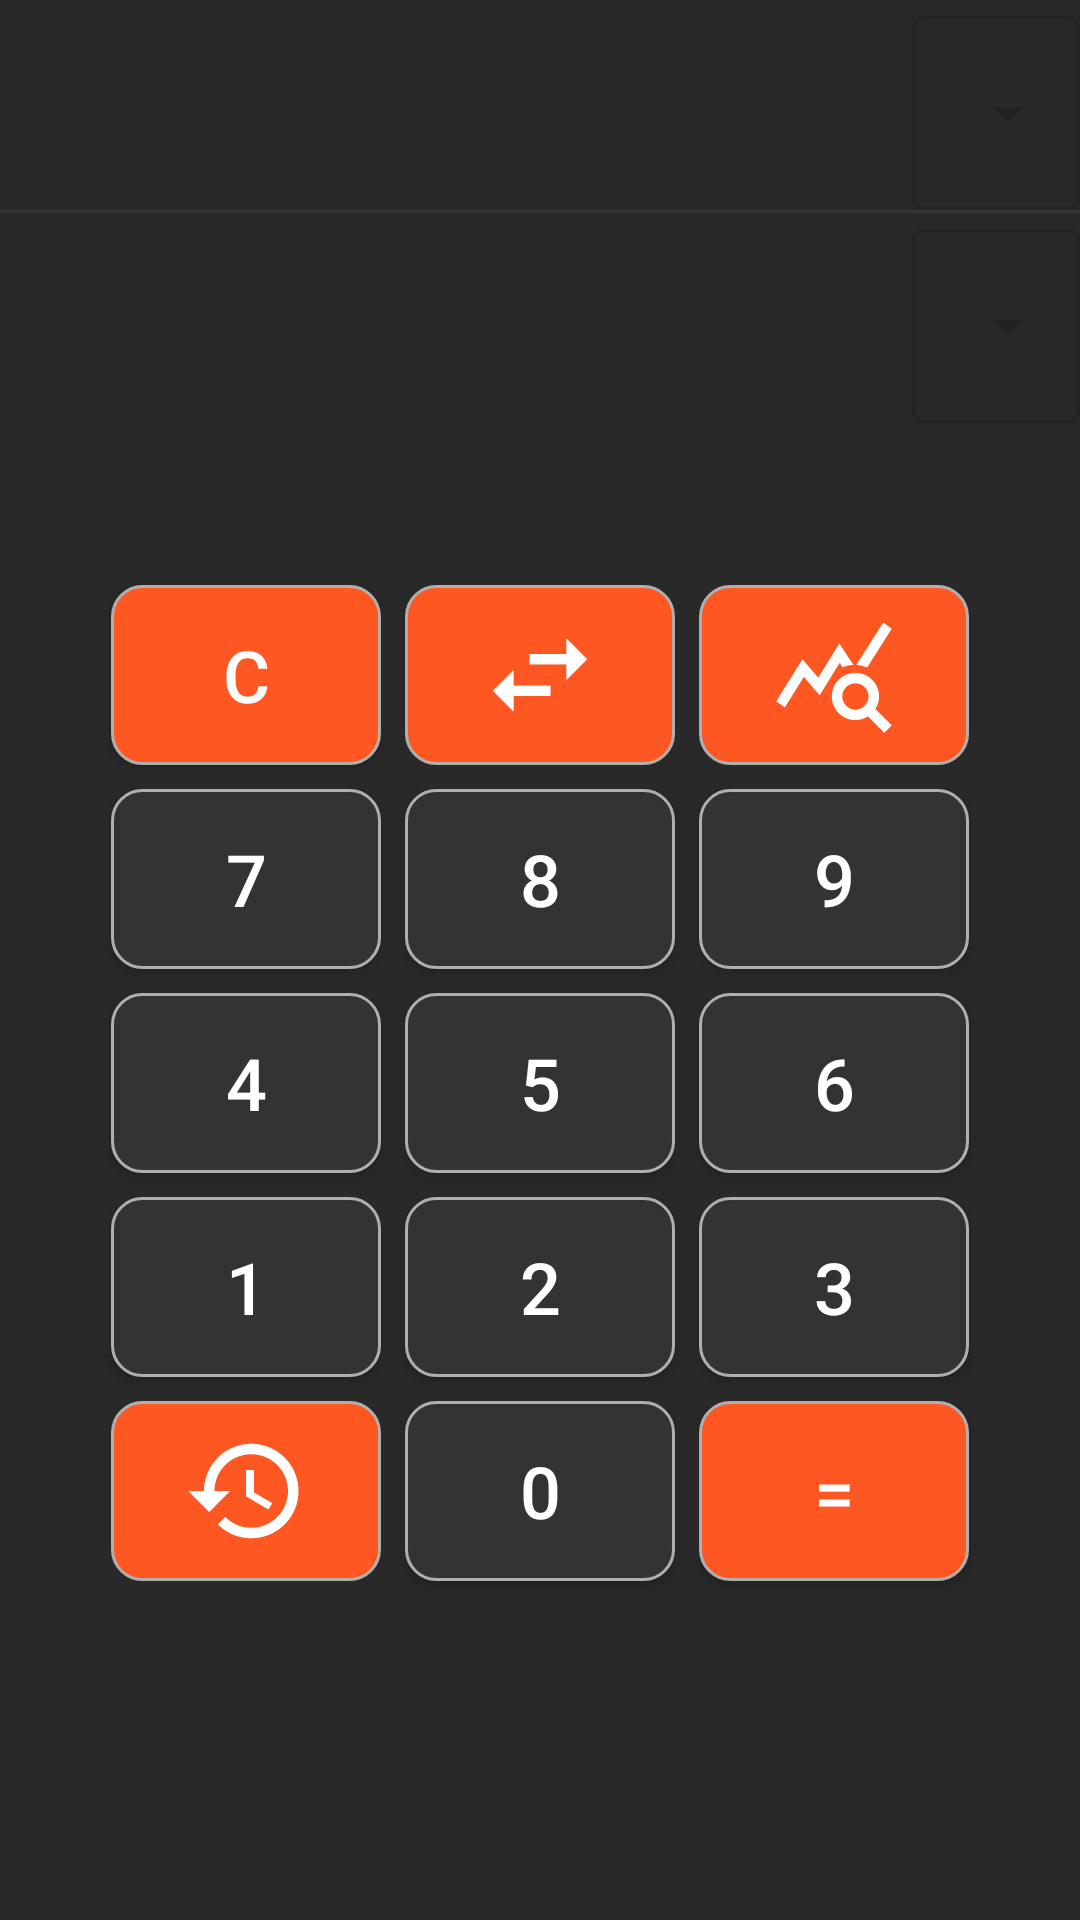

Icons on this 1080px×1920px Android screen, each with its box as box(x1, y1, x2, y2):
geaph: box(699, 585, 969, 765)
history: box(111, 1401, 381, 1581)
swap: box(405, 585, 675, 765)
